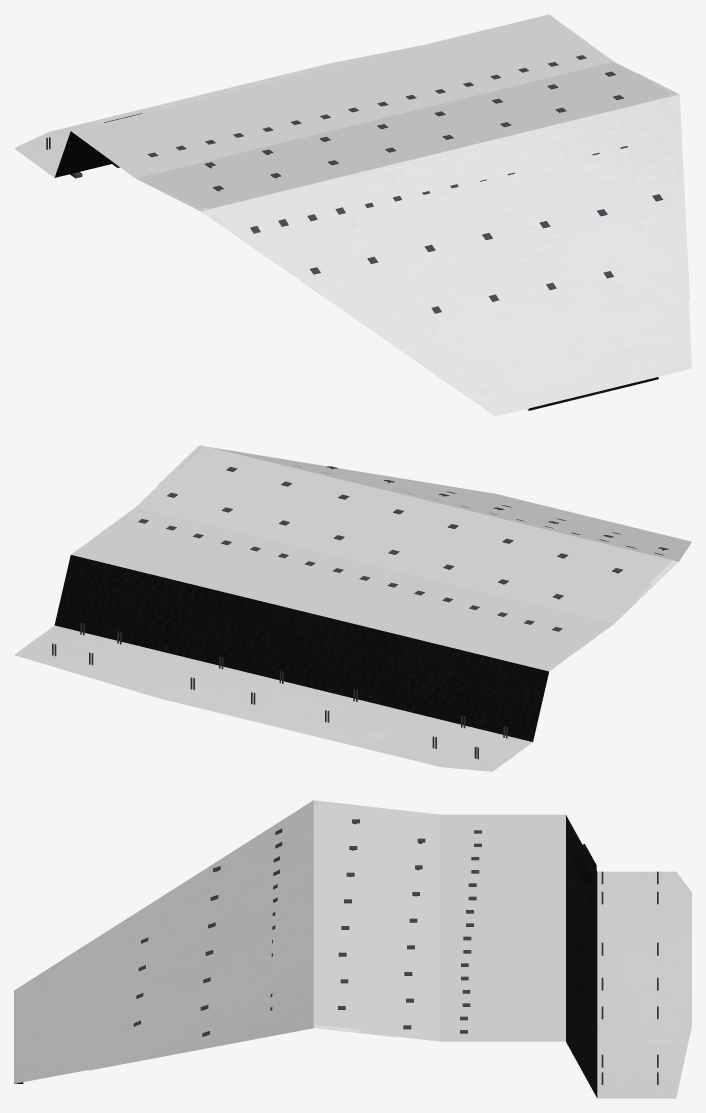
File: ceiling.gltf
3 views of the same model, one above another, from view 1: azimuth 30°, elevation 25°; view 2: azimuth 150°, elevation 25°; view 3: azimuth 270°, elevation 25° (orthographic). The views are drawn at different scales.
Visible parts, largest first — view 1: Plane; view 2: Plane; view 3: Plane.
Boxes of the visible parts, x1=… form: Plane: x1=14, y1=14, x2=691, y2=416; Plane: x1=14, y1=445, x2=691, y2=771; Plane: x1=14, y1=800, x2=691, y2=1098.
Bounding box in the file's own units: 17.08 × 4.48 × 21.5.
Materials: 11 (9 with a texture image).
